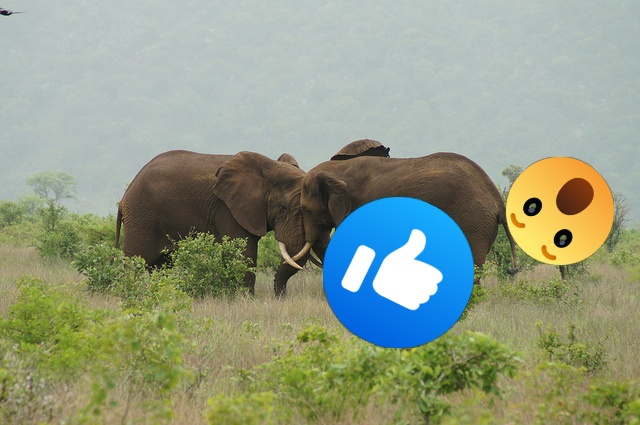like: (323, 197, 474, 348)
wow: (506, 157, 614, 265)
